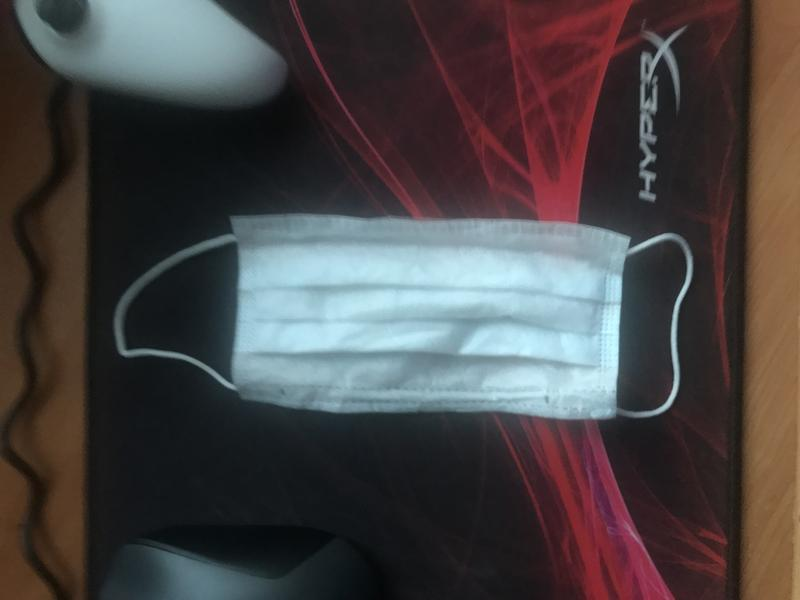medical_mask: (116, 215, 695, 416)
